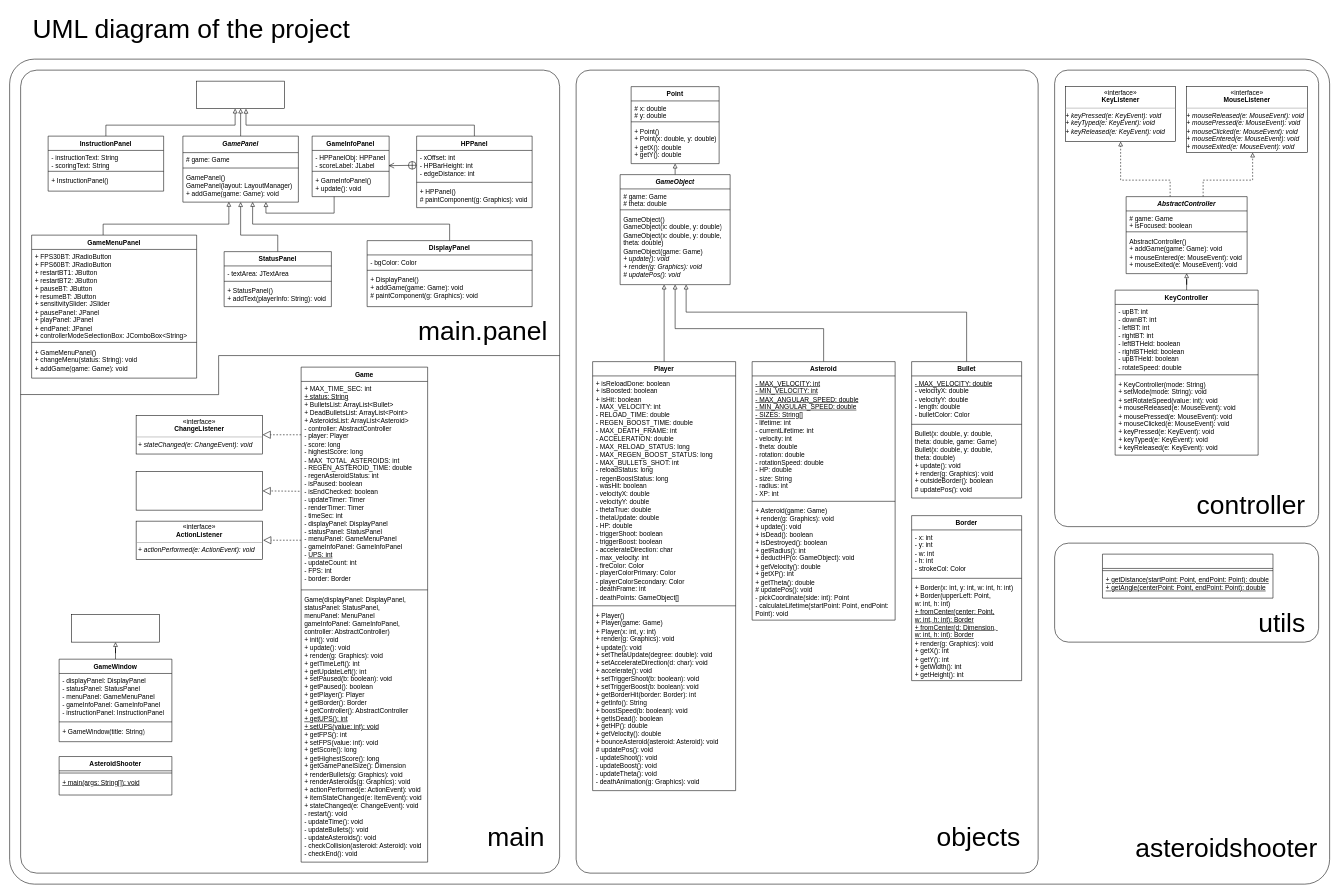
Image size: 1339x894. Some labels were removed from this diagram. The box of each missing label's shape, as (x1, y1, x2, y2) in pixels:
javax.swing.JFrame: (71, 614, 160, 642)
javax.swing.JPanel: (196, 81, 285, 109)
MathUtils: (1102, 554, 1273, 598)
«interface» ItemListener + itemStateChanged(e: ItemEvent): void: (136, 471, 263, 510)
